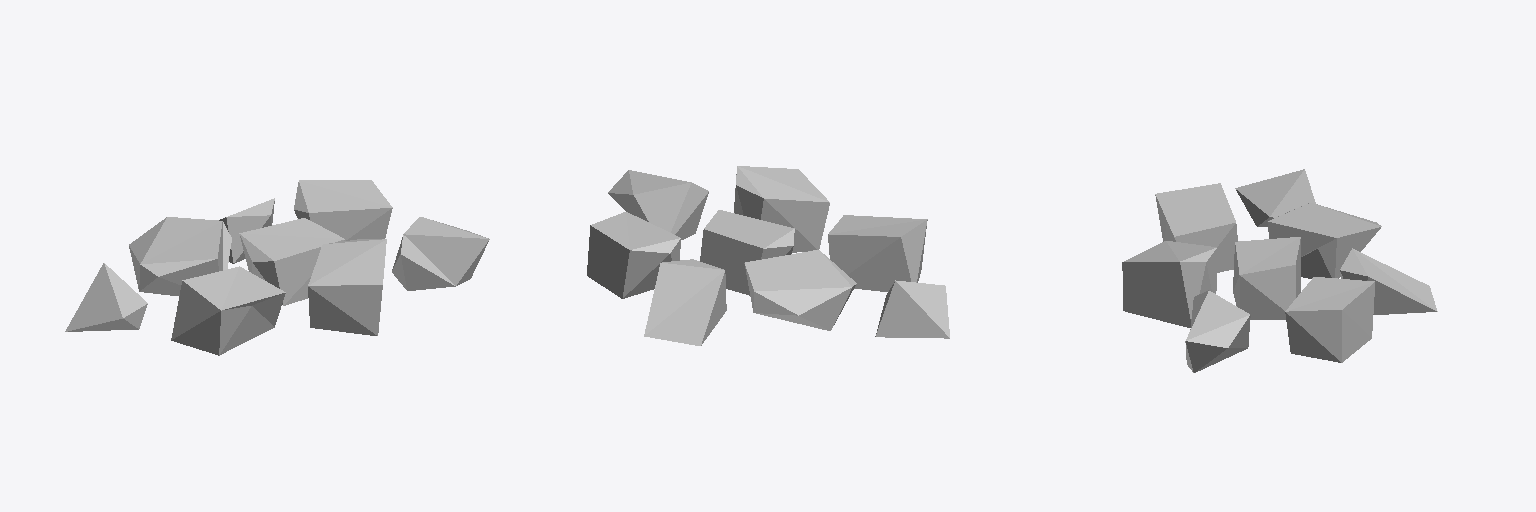
The model's file is rock_006_LOD2.obj.
3 renders of one model, left to right at view 1: azimuth 30°, elevation 25°; view 2: azimuth 150°, elevation 25°; view 3: azimuth 270°, elevation 25°, orthographic.
Parts seen in each view (by area): view 1: rock_006_LOD2 rock_006; view 2: rock_006_LOD2 rock_006; view 3: rock_006_LOD2 rock_006.
Boxes of the visible parts, box(x1,y1,x2,y2) form: rock_006_LOD2 rock_006: box(65, 180, 489, 355); rock_006_LOD2 rock_006: box(587, 166, 949, 345); rock_006_LOD2 rock_006: box(1122, 169, 1437, 372).
Bounding box in the file's own units: 745 × 129 × 545.